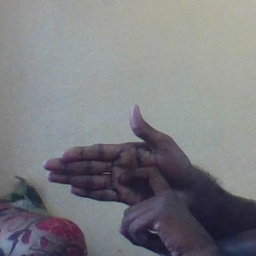R: (41, 107, 202, 253)
